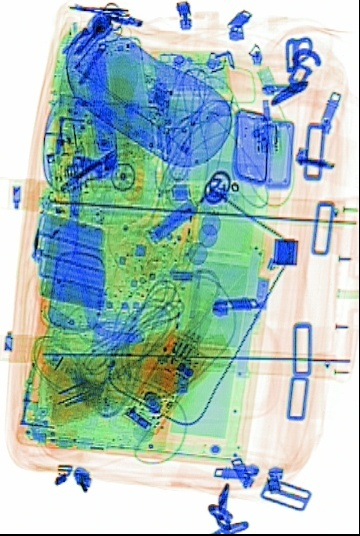powerbank: (29, 202, 109, 309)
